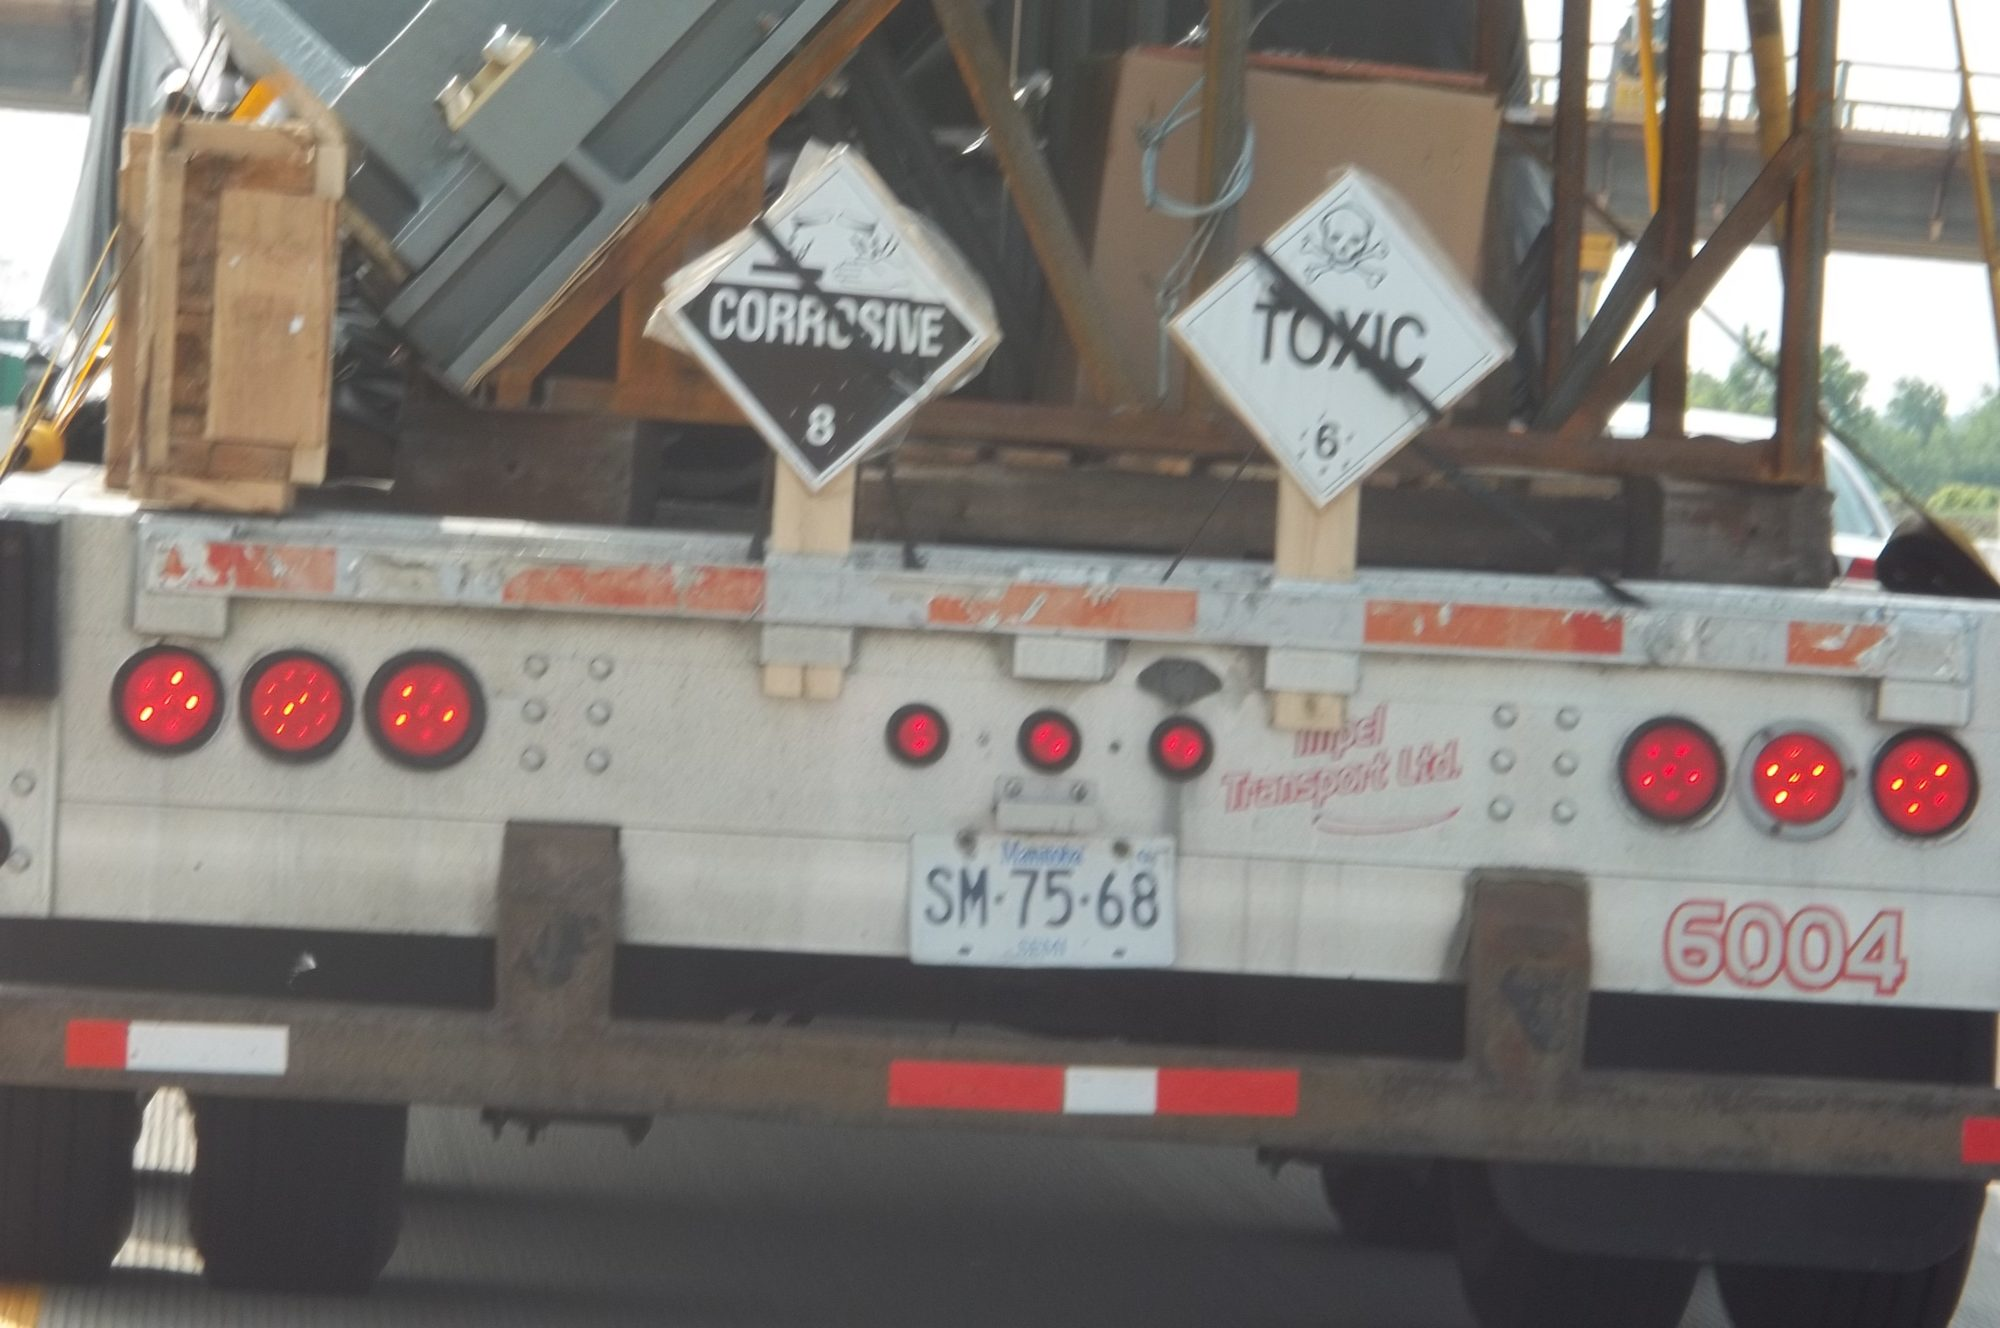Corrosive: (661, 136, 1007, 502)
